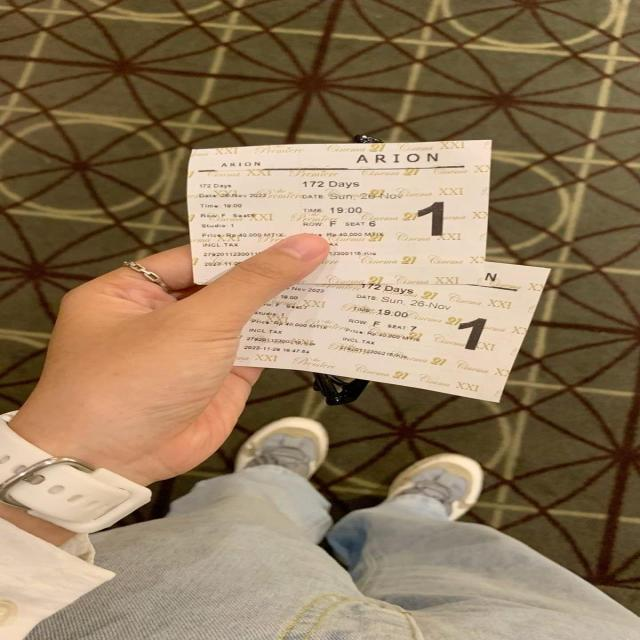date: (194, 190, 282, 201)
store: (348, 153, 446, 165)
total: (306, 232, 389, 240)
